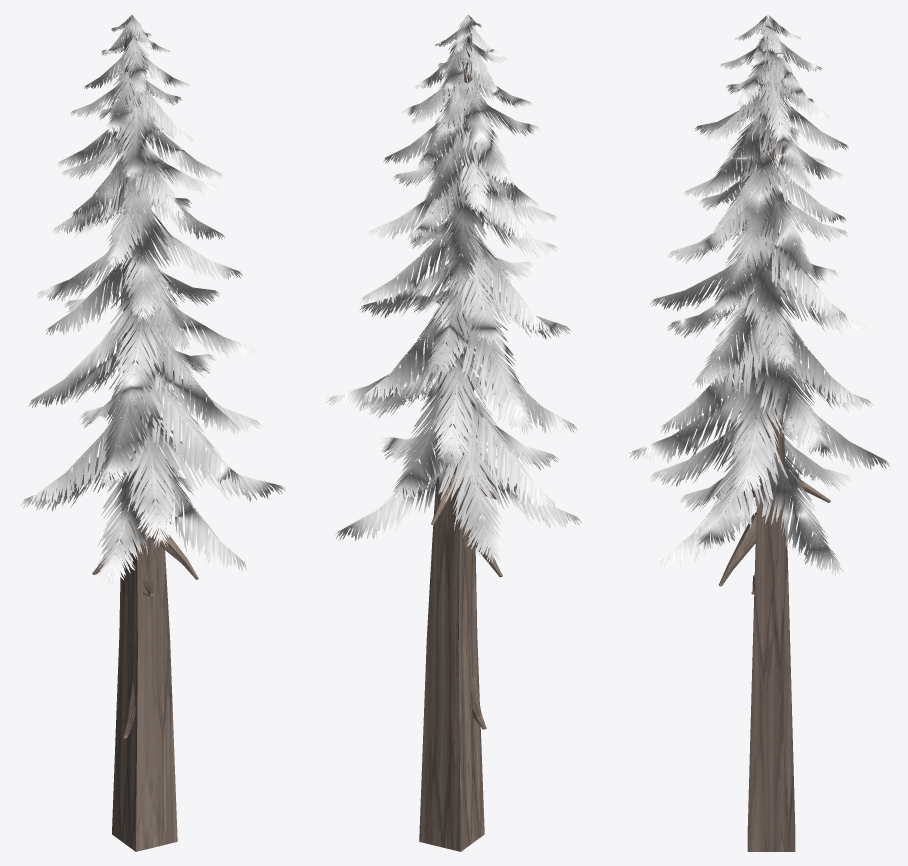
File: PineTree04.fbx
The picture shows the model from 3 angles, left to right: view 1: azimuth 30°, elevation 25°; view 2: azimuth 150°, elevation 25°; view 3: azimuth 270°, elevation 25°; orthographic projection.
Visible parts, largest first — view 1: PineTree04_LOD0; view 2: PineTree04_LOD0; view 3: PineTree04_LOD0.
Part boxes in pixels (bbox=[...]): PineTree04_LOD0: bbox=[21, 14, 285, 851]; PineTree04_LOD0: bbox=[326, 14, 581, 851]; PineTree04_LOD0: bbox=[629, 14, 889, 851].
Size of what is drawn, in the model's own units: 397 by 1321 by 405.
